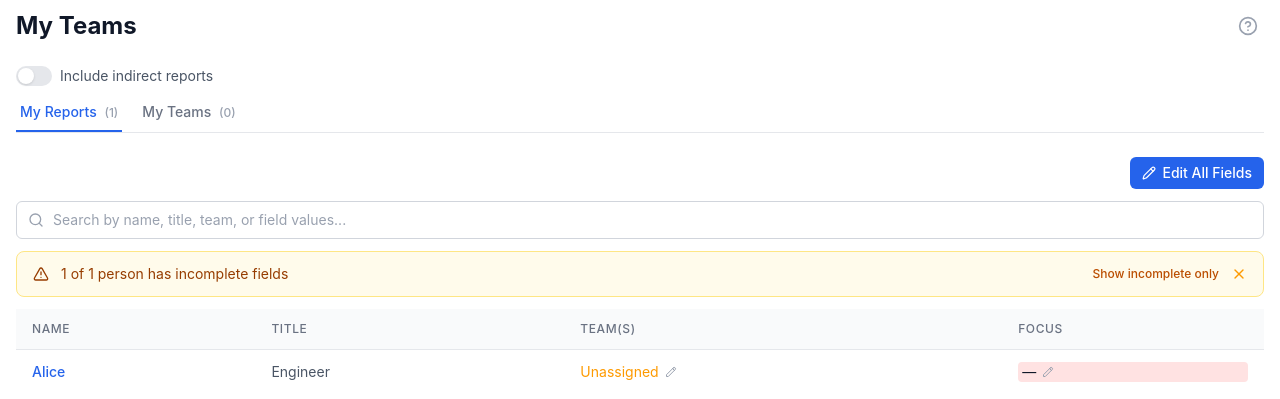
ManagerDashboardView › field completeness warnings › hides banner when dismissed
Note: Click dismiss button (the X button inside the banner)
Click the 6th button at coordinates (1239, 274), box [1231,266,1247,282]
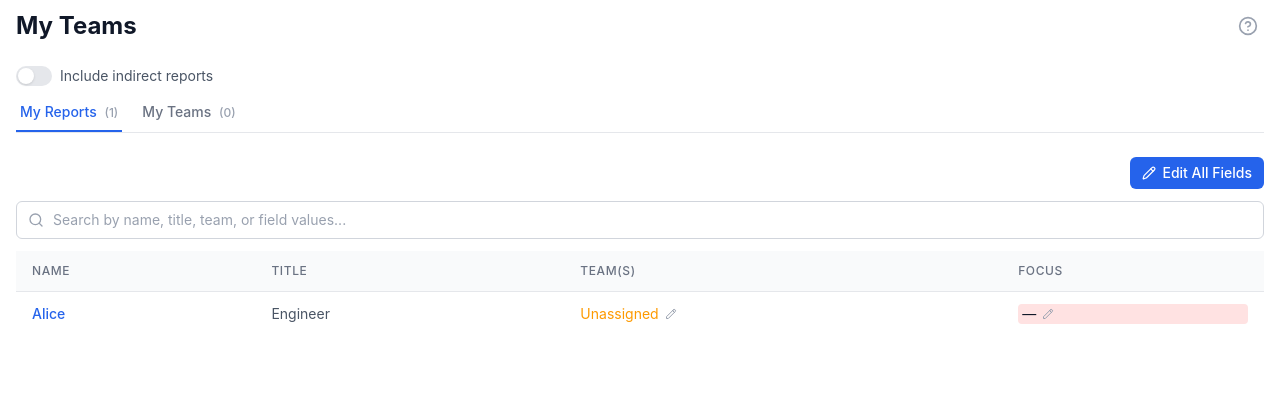
Now the text "incomplete fields" is gone
